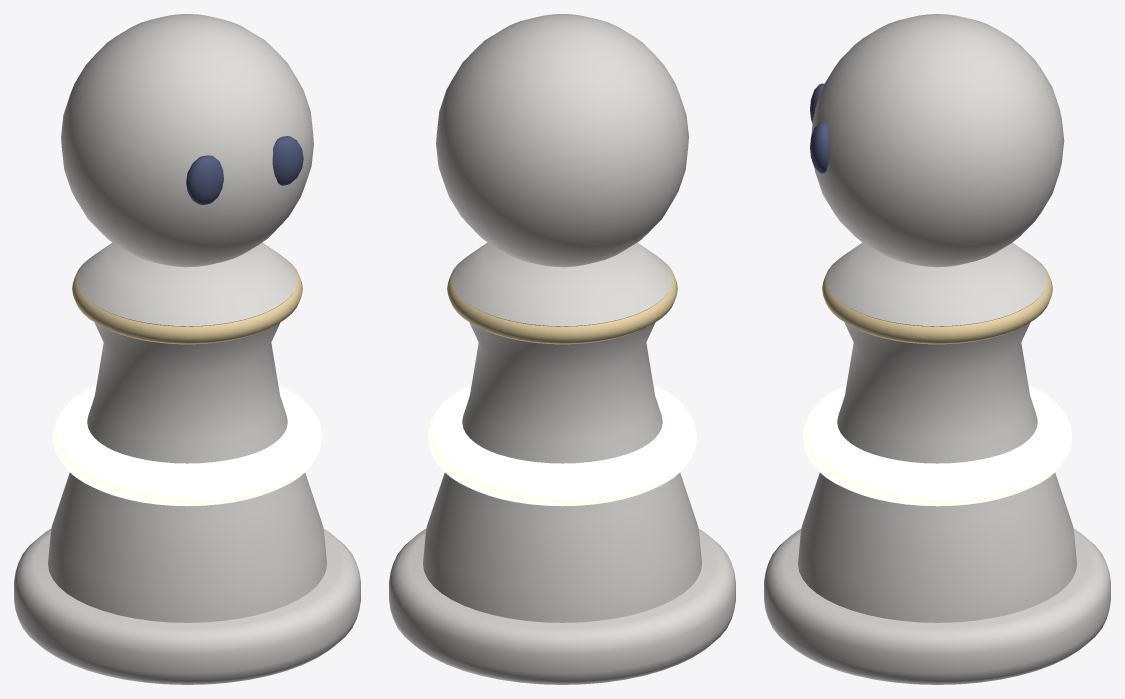
The model's file is Player.fbx.
3 renders of one model, left to right at view 1: azimuth 30°, elevation 25°; view 2: azimuth 150°, elevation 25°; view 3: azimuth 270°, elevation 25°, orthographic.
Visible parts, largest first — view 1: Torso, Head, Base, Core, Collar, EyeL, EyeR; view 2: Torso, Head, Base, Core, Collar; view 3: Torso, Head, Base, Core, Collar, EyeR.
Part boxes in pixels (<box>): Torso: <box>48,242,326,622</box>; Head: <box>61,14,313,267</box>; Base: <box>14,528,360,684</box>; Core: <box>52,385,322,506</box>; Collar: <box>72,258,302,344</box>; EyeL: <box>186,155,223,204</box>; EyeR: <box>272,136,303,185</box>; Torso: <box>423,242,701,622</box>; Head: <box>436,14,688,267</box>; Base: <box>389,528,735,684</box>; Core: <box>427,385,697,506</box>; Collar: <box>447,258,677,344</box>; Torso: <box>798,242,1076,622</box>; Head: <box>811,14,1064,267</box>; Base: <box>764,528,1110,684</box>; Core: <box>802,385,1072,506</box>; Collar: <box>822,259,1052,344</box>; EyeR: <box>810,122,829,173</box>.
Size of the model in its own units: 0.52 by 0.98 by 0.52.
